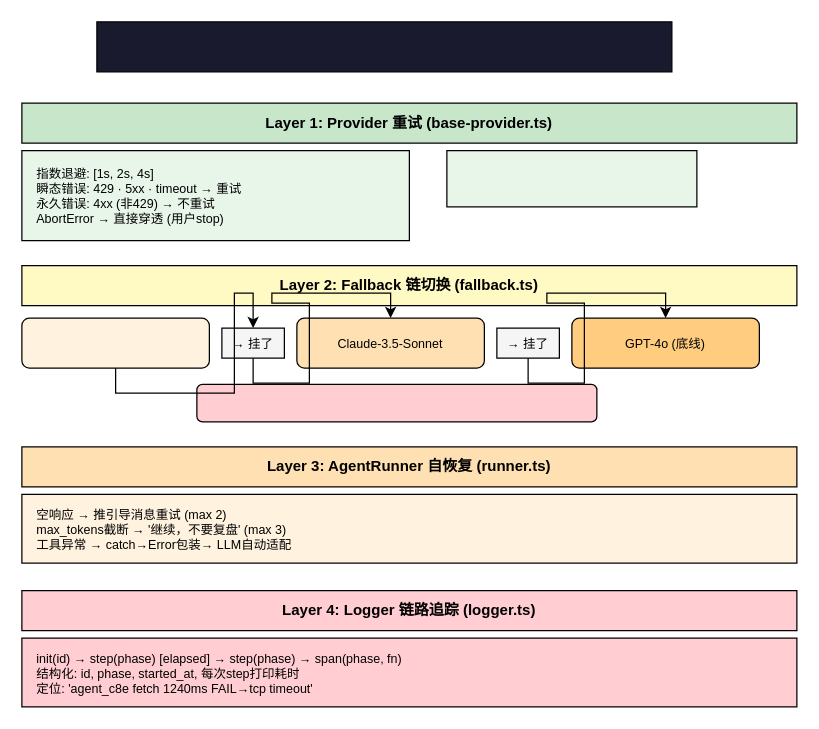
Some shapes in this 819 by 729 pixel diagram are drawn without their labels. The shapes that lost their labels are listed below. From the top down, each one's box as (x1, y1, x2, y2) in pixels, then its label:
(96, 21, 672, 72): 四层防线 — Agent 翻车优雅降级系统
(446, 149, 697, 207): standard: max 3 retries persistent: 无限 (后台任务)
(21, 317, 209, 368): DeepSeek-V3 (主模型)
(196, 383, 597, 422): 全挂 → 'All providers failed' 兜底消息
